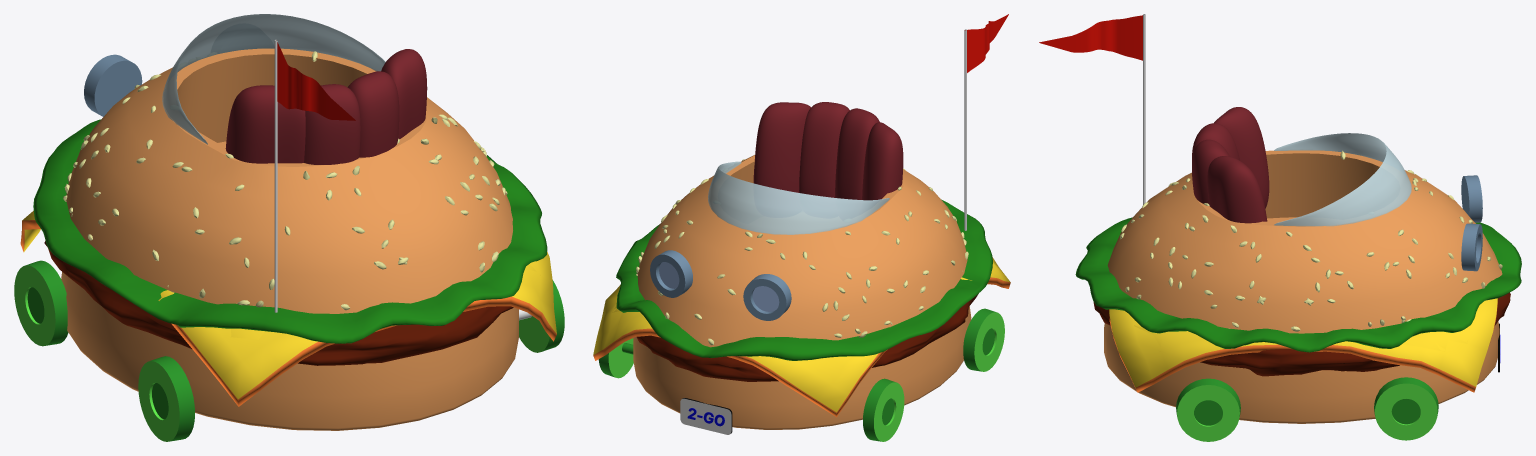
File: Krabby Car.fbx
The picture shows the model from 3 angles, left to right: view 1: azimuth 30°, elevation 25°; view 2: azimuth 150°, elevation 25°; view 3: azimuth 270°, elevation 25°; orthographic projection. The views are drawn at different scales.
Visible parts, largest first — view 1: Sphere.001, Sphere, Circle, Cube, Plane, Cylinder, Sphere.002, Cylinder.003, Cylinder.004, Cylinder.006, Plane.004, Cylinder.002 (+1 smaller); view 2: Sphere.001, Cube, Sphere, Circle, Sphere.002, Plane, Cylinder, Cylinder.003, Cylinder.004, Cylinder.006, Cylinder.005, Cube.001 (+3 smaller); view 3: Sphere.001, Sphere, Circle, Plane, Cube, Sphere.002, Cylinder, Cylinder.002, Cylinder.001, Plane.004, Cylinder.005, Cylinder.006 (+1 smaller).
Part boxes in pixels (x1=…): Sphere.001: x1=63, y1=48, x2=512, y2=313; Sphere: x1=61, y1=272, x2=518, y2=430; Circle: x1=33, y1=119, x2=547, y2=343; Cube: x1=225, y1=49, x2=427, y2=164; Plane: x1=20, y1=211, x2=556, y2=406; Cylinder: x1=44, y1=241, x2=513, y2=365; Sphere.002: x1=162, y1=14, x2=385, y2=144; Cylinder.003: x1=138, y1=356, x2=194, y2=441; Cylinder.004: x1=14, y1=260, x2=68, y2=346; Cylinder.006: x1=84, y1=54, x2=142, y2=116; Plane.004: x1=277, y1=42, x2=355, y2=120; Cylinder.002: x1=519, y1=280, x2=564, y2=352; Sphere.001: x1=636, y1=155, x2=968, y2=347; Cube: x1=753, y1=102, x2=903, y2=200; Sphere: x1=633, y1=306, x2=971, y2=429; Circle: x1=616, y1=199, x2=992, y2=360; Sphere.002: x1=708, y1=161, x2=889, y2=234; Plane: x1=593, y1=257, x2=1010, y2=417; Cylinder: x1=636, y1=293, x2=978, y2=381; Cylinder.003: x1=963, y1=308, x2=1004, y2=371; Cylinder.004: x1=863, y1=378, x2=904, y2=441; Cylinder.006: x1=743, y1=274, x2=791, y2=320; Cylinder.005: x1=650, y1=250, x2=692, y2=297; Cube.001: x1=680, y1=398, x2=732, y2=434; Sphere.001: x1=1107, y1=150, x2=1502, y2=333; Sphere: x1=1104, y1=321, x2=1499, y2=423; Circle: x1=1075, y1=217, x2=1521, y2=352; Plane: x1=1109, y1=298, x2=1497, y2=392; Cube: x1=1192, y1=107, x2=1269, y2=223; Sphere.002: x1=1274, y1=133, x2=1411, y2=226; Cylinder: x1=1093, y1=292, x2=1510, y2=376; Cylinder.002: x1=1176, y1=378, x2=1240, y2=441; Cylinder.001: x1=1374, y1=377, x2=1438, y2=440; Plane.004: x1=1039, y1=15, x2=1142, y2=60; Cylinder.005: x1=1461, y1=223, x2=1482, y2=271; Cylinder.006: x1=1461, y1=175, x2=1482, y2=222.
Bounding box in the file's own units: 300 × 280 × 390.
